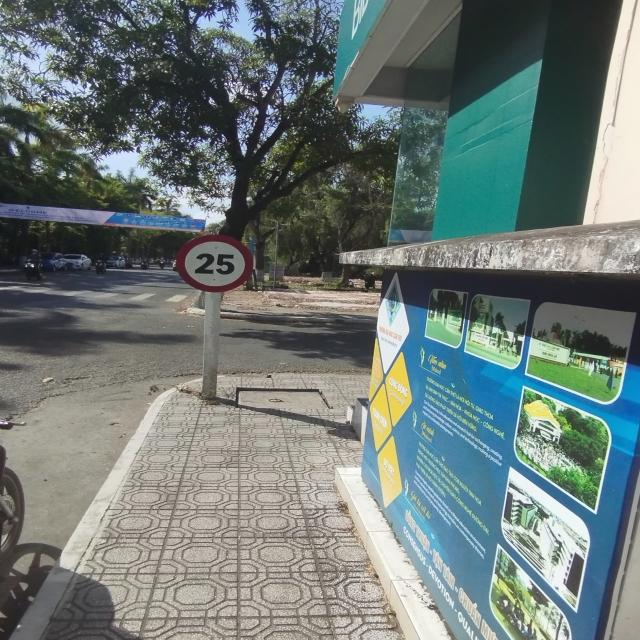Tre_Em: (176, 234, 254, 294)
